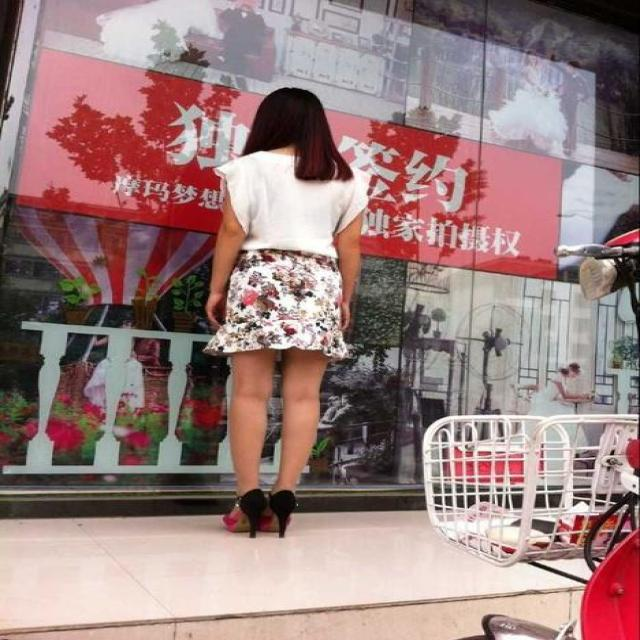skirt: (206, 250, 350, 359)
vest: (215, 152, 369, 258)
